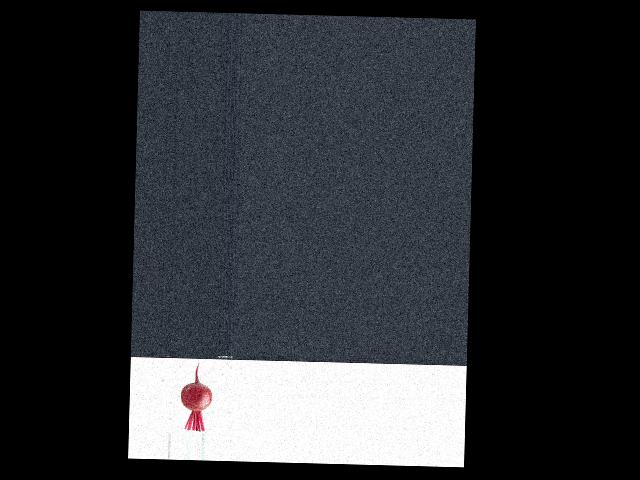beet: (179, 360, 212, 431)
